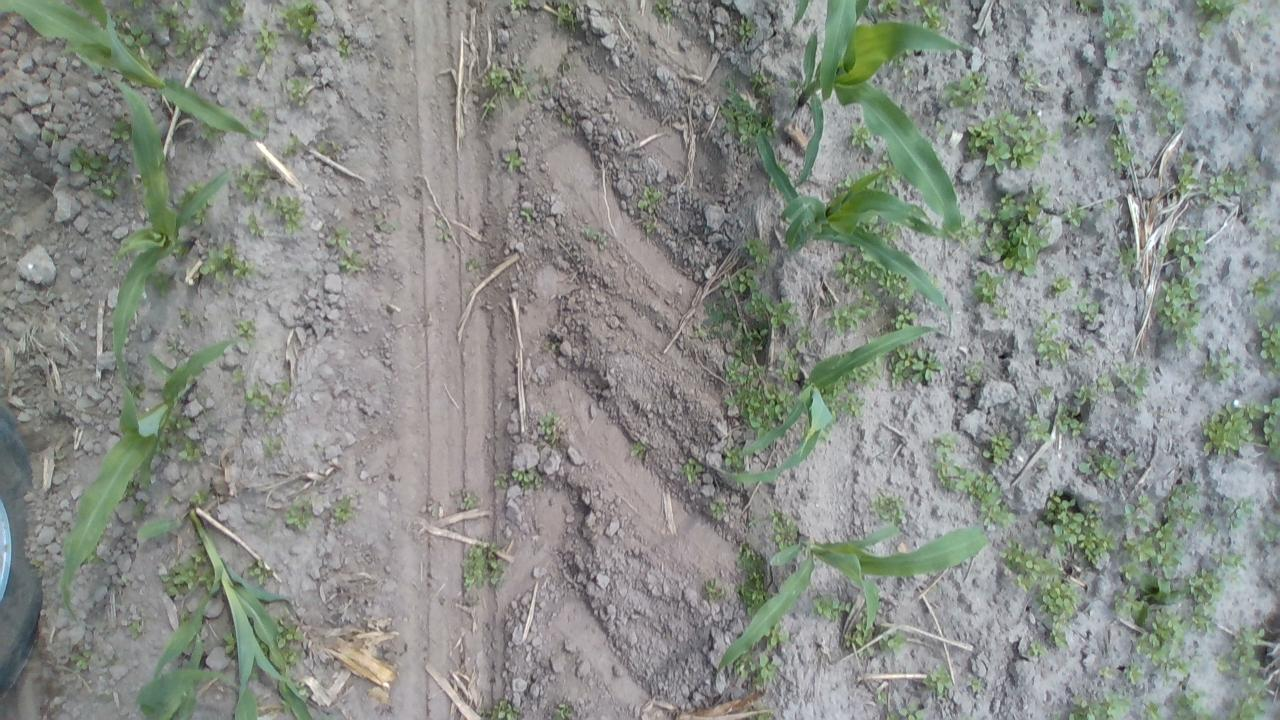Maize: (72, 52, 234, 382), (54, 337, 240, 621), (716, 518, 987, 674), (755, 134, 953, 336), (798, 0, 967, 232), (138, 502, 316, 720), (6, 0, 263, 142), (727, 324, 934, 490), (136, 635, 200, 720), (792, 0, 810, 29)
Weeds: (976, 181, 1051, 279), (1039, 486, 1118, 566), (936, 456, 1016, 529), (968, 110, 1063, 170), (722, 368, 792, 434), (1216, 628, 1266, 720), (718, 76, 776, 142), (1162, 269, 1210, 339), (1124, 524, 1184, 578), (1199, 400, 1253, 456), (1001, 540, 1058, 592), (1133, 608, 1186, 662), (735, 546, 770, 608), (1032, 308, 1070, 364), (942, 70, 992, 109), (200, 241, 250, 280), (1160, 477, 1203, 522), (1038, 576, 1087, 615), (260, 194, 305, 235), (1078, 450, 1138, 479), (1150, 85, 1184, 135), (1168, 226, 1208, 268), (283, 0, 328, 36), (463, 548, 502, 588), (1251, 397, 1280, 450), (1066, 698, 1134, 720), (1141, 574, 1184, 606), (1172, 687, 1212, 720), (1101, 3, 1121, 68), (1189, 570, 1224, 606), (226, 169, 266, 200), (1258, 315, 1280, 371), (734, 323, 769, 358), (1246, 268, 1280, 304), (1117, 359, 1153, 393), (1199, 348, 1237, 380), (66, 147, 106, 177), (252, 17, 278, 62), (177, 25, 210, 60), (764, 296, 800, 328), (249, 384, 281, 420), (868, 494, 906, 524), (983, 428, 1012, 467), (1176, 152, 1200, 197), (1124, 494, 1154, 530), (878, 273, 914, 302), (749, 656, 781, 688), (914, 346, 944, 380), (700, 302, 734, 332), (1196, 0, 1242, 22), (925, 664, 956, 696), (888, 346, 912, 387), (1209, 173, 1248, 198), (721, 270, 758, 296), (1226, 496, 1252, 532), (770, 512, 796, 548), (163, 564, 194, 594), (774, 350, 802, 382), (826, 308, 860, 334), (1111, 132, 1134, 170), (832, 250, 858, 282), (811, 592, 840, 620), (1023, 414, 1053, 441), (1216, 548, 1249, 572), (891, 306, 918, 334), (977, 273, 1003, 302), (1020, 66, 1043, 98), (1190, 604, 1218, 630), (124, 24, 154, 48), (1070, 384, 1098, 409), (1046, 620, 1071, 648), (324, 214, 346, 245), (1249, 208, 1275, 234), (744, 237, 771, 262), (721, 443, 746, 470), (218, 6, 246, 30), (250, 108, 274, 136), (95, 169, 117, 199), (825, 380, 845, 412), (954, 217, 976, 246), (889, 703, 926, 720), (1114, 586, 1138, 612), (920, 4, 944, 29), (856, 295, 879, 321), (180, 436, 203, 462), (874, 222, 902, 243), (1064, 204, 1088, 228), (638, 186, 662, 210), (245, 560, 269, 584), (1120, 4, 1136, 39), (1147, 53, 1171, 76), (534, 62, 550, 95), (940, 431, 964, 453), (1166, 658, 1190, 680), (766, 626, 788, 650), (280, 136, 302, 160), (881, 634, 907, 654), (850, 367, 880, 384), (703, 577, 724, 601), (247, 212, 268, 236), (332, 496, 352, 521), (1058, 417, 1084, 436), (486, 66, 508, 88), (338, 250, 362, 270), (493, 701, 521, 718), (286, 507, 308, 528), (1078, 108, 1098, 131), (1117, 243, 1137, 266), (849, 122, 868, 146), (678, 461, 702, 480), (1052, 274, 1074, 294), (122, 617, 142, 639), (845, 395, 865, 416), (235, 318, 258, 336), (1125, 666, 1145, 686), (262, 439, 282, 459), (651, 0, 670, 21), (376, 214, 394, 236), (536, 412, 554, 434), (71, 646, 89, 668), (280, 627, 302, 645), (150, 48, 166, 71), (728, 358, 742, 384), (434, 221, 452, 241), (1253, 14, 1271, 34), (737, 18, 757, 36), (1260, 522, 1278, 542), (1080, 301, 1096, 321), (1112, 99, 1134, 113), (1144, 702, 1162, 719), (859, 262, 878, 278), (501, 152, 522, 166), (109, 124, 130, 138), (795, 328, 807, 352), (1096, 662, 1114, 678), (750, 293, 766, 311), (158, 12, 178, 26), (897, 57, 913, 74), (749, 74, 766, 90), (710, 503, 726, 520), (562, 2, 574, 24), (580, 227, 600, 240), (168, 415, 188, 428), (511, 83, 527, 99), (1196, 21, 1210, 39), (1098, 376, 1114, 391), (281, 374, 293, 394), (223, 634, 235, 654), (878, 0, 899, 11), (290, 80, 300, 103), (512, 470, 531, 482), (560, 701, 572, 720), (336, 38, 350, 54), (964, 368, 980, 382), (459, 493, 473, 509), (317, 142, 335, 154), (1268, 233, 1280, 250), (852, 620, 862, 640), (560, 110, 574, 124), (630, 444, 644, 458), (1010, 50, 1026, 62), (232, 365, 244, 381), (190, 548, 202, 564), (236, 64, 254, 74), (482, 102, 500, 112), (838, 176, 854, 187), (200, 575, 213, 588), (1030, 644, 1044, 656), (494, 474, 508, 486), (230, 0, 246, 10), (970, 680, 986, 690), (190, 494, 203, 506), (1038, 386, 1052, 397), (645, 220, 658, 231), (284, 652, 298, 662), (1256, 184, 1264, 200), (134, 2, 150, 10), (510, 1, 524, 10), (468, 258, 477, 272), (180, 0, 197, 7), (998, 307, 1008, 318), (932, 120, 942, 130), (521, 212, 532, 220)
